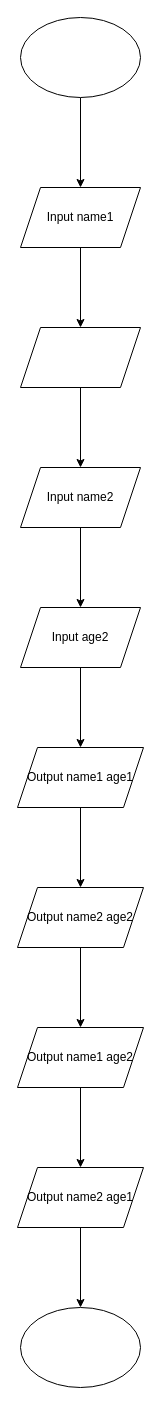
This 161x1405 diagram has some shape labels left out. Each missing label, with the centre of its shape:
"End" goes at (80,1347).
"Input age1" goes at (80,357).
"Start" goes at (80,57).
